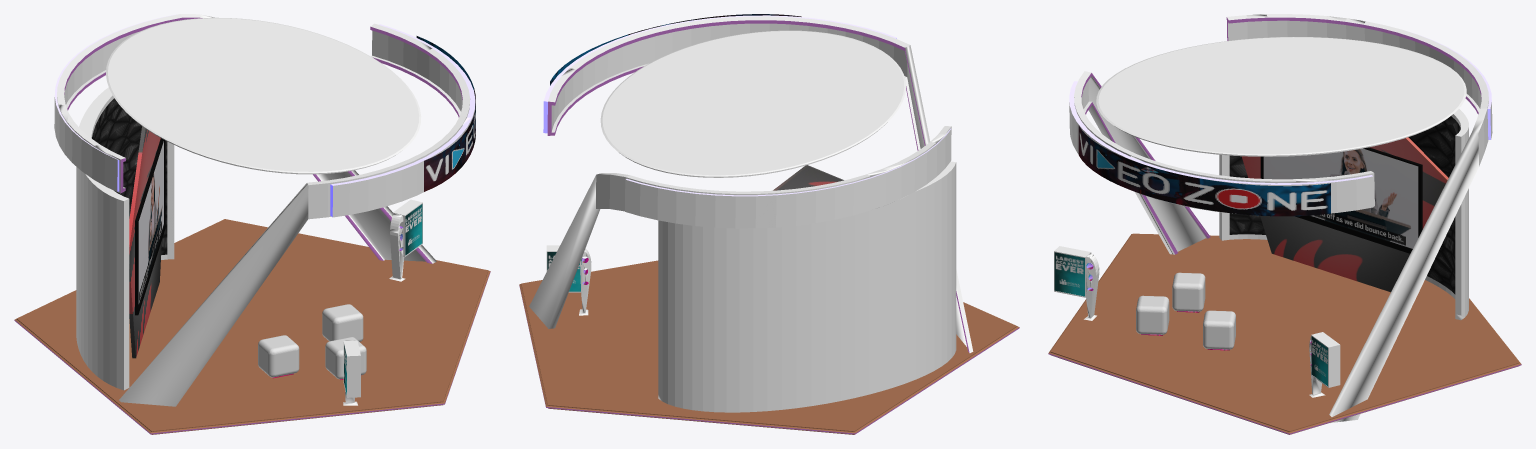
Rendered from videozone.glb.
3 views of the same model, side by side, from view 1: azimuth 30°, elevation 25°; view 2: azimuth 150°, elevation 25°; view 3: azimuth 270°, elevation 25° (orthographic). The views are drawn at different scales.
Visible parts, largest first — view 1: video section, Circle, video side 1, video side, video bg, videozone, video zone text, chair _01, chair02, video wall border_001, chair_03, poster border (+3 smaller); view 2: video side, Circle, video side 1, video section, video bg, banner border _001, video zone text; view 3: video section, Circle, video side 1, video bg, video zone text, videozone, video side, video wall border_001, chair _01, chair_03, chair02, banner _002 (+3 smaller).
Boxes of the visible parts, x1,y1,x2,y2 form: video section: (14,219,490,434); Circle: (106,17,421,174); video side 1: (54,14,475,406); video side: (76,87,174,390); video bg: (129,126,166,358); videozone: (138,141,163,303); video zone text: (416,36,475,191); chair _01: (258,335,299,378); chair02: (322,304,363,341); video wall border_001: (135,138,165,315); chair_03: (325,337,366,379); poster border: (343,340,360,397); video side: (658,161,956,412); Circle: (600,30,905,177); video side 1: (529,15,973,353); video section: (519,260,1019,434); video bg: (773,165,843,190); banner border _001: (579,248,591,315); video zone text: (550,14,801,85); video section: (1048,233,1521,434); Circle: (1096,37,1466,156); video side 1: (1069,14,1492,423); video bg: (1241,137,1448,292); video zone text: (1078,125,1330,216); videozone: (1263,148,1418,248); video side: (1219,109,1468,320); video wall border_001: (1260,147,1422,253); chair _01: (1172,272,1205,312); chair_03: (1136,295,1169,335); chair02: (1203,310,1235,350); banner _002: (1054,252,1084,296).
Size of the model in its own units: 16.71 by 9.81 by 16.75.
15 materials, 8 textured.
